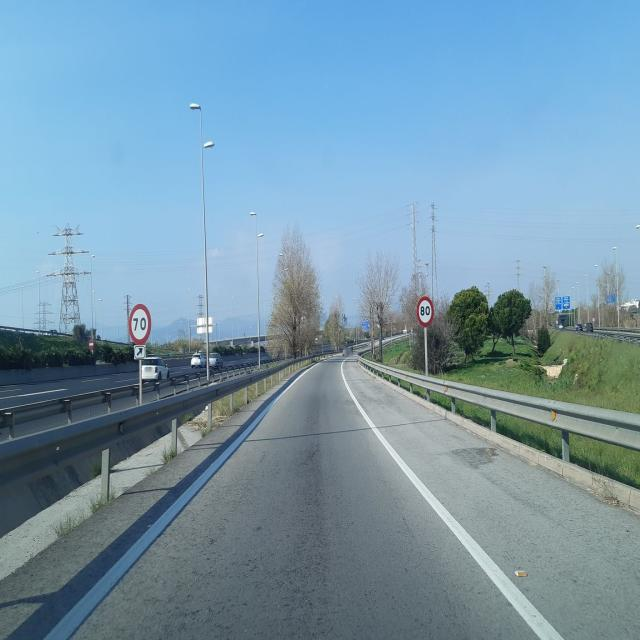car: (141, 356, 169, 385), (190, 353, 202, 368)
